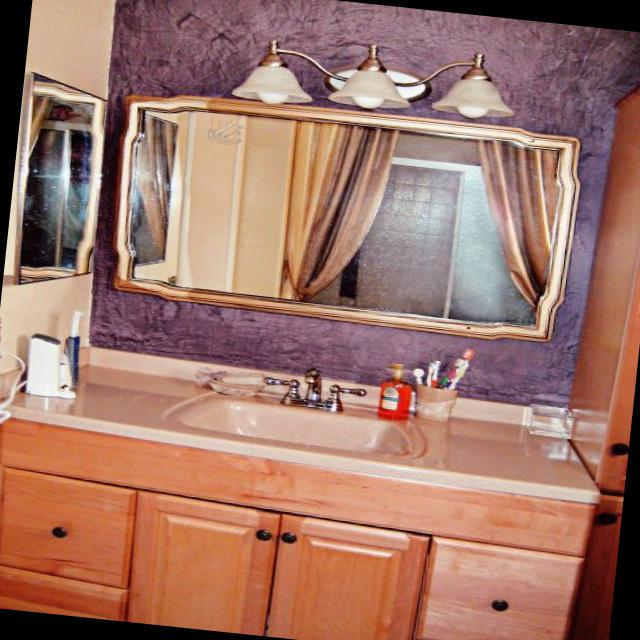Cabinet: (125, 489, 280, 635)
Drawer: (0, 467, 131, 590)
bathroom: (165, 390, 418, 456)
drawer handle: (413, 536, 582, 640)
electric toothbrush: (24, 307, 84, 401)
faucet handle: (251, 353, 377, 417)
light switch plate: (223, 35, 525, 122)
mirror crop: (116, 90, 580, 339), (18, 76, 106, 282)
